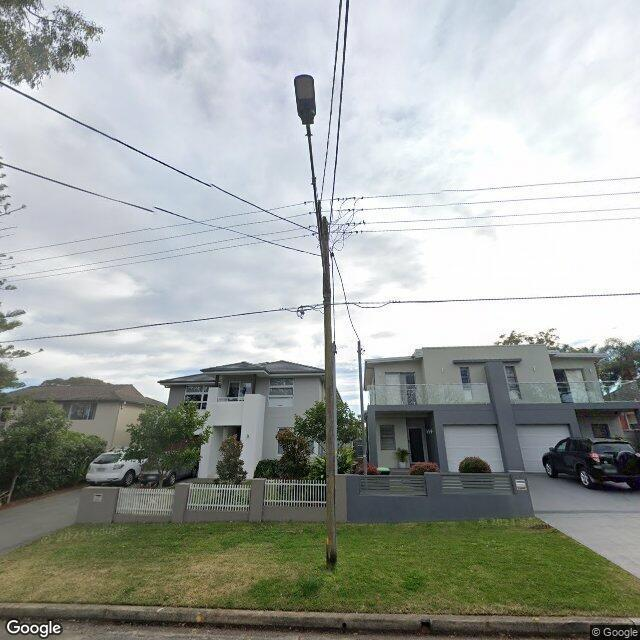crossarm: (318, 200, 322, 240)
steel-pole: (358, 340, 368, 475)
streetlight: (294, 74, 328, 269)
timber-pole: (320, 215, 337, 568)
